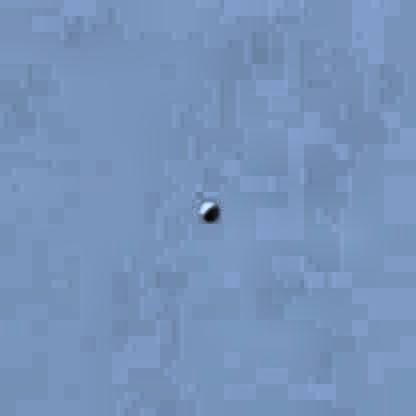golfball: (197, 199, 216, 218)
